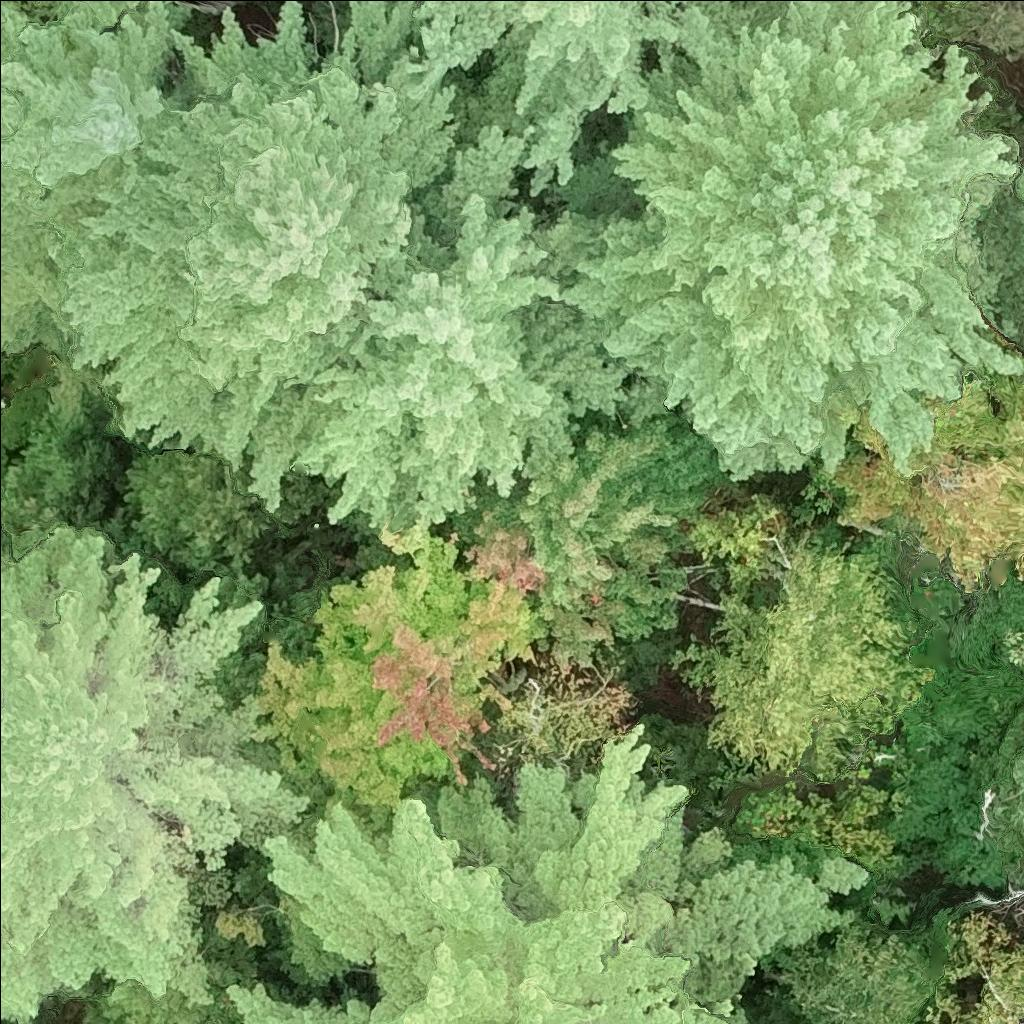crown: (62, 0, 533, 506), (566, 0, 1023, 482), (268, 721, 870, 1023), (0, 526, 309, 1023), (295, 195, 630, 537), (263, 520, 546, 807), (451, 406, 731, 669), (671, 508, 935, 776), (0, 0, 191, 354), (408, 0, 681, 193), (833, 359, 1023, 594), (121, 425, 347, 561), (920, 914, 1023, 1023), (974, 172, 1023, 348), (230, 983, 379, 1023), (977, 308, 1023, 362), (996, 762, 1023, 832), (22, 0, 69, 17), (1003, 639, 1023, 670), (943, 0, 970, 3)
